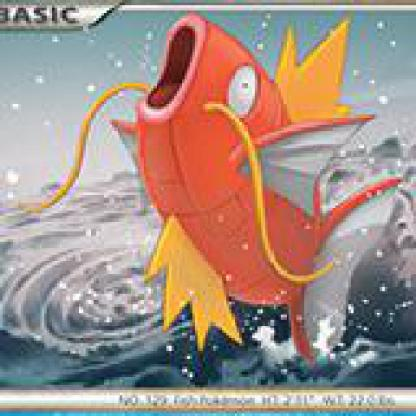Magikarp: (1, 1, 415, 415)
